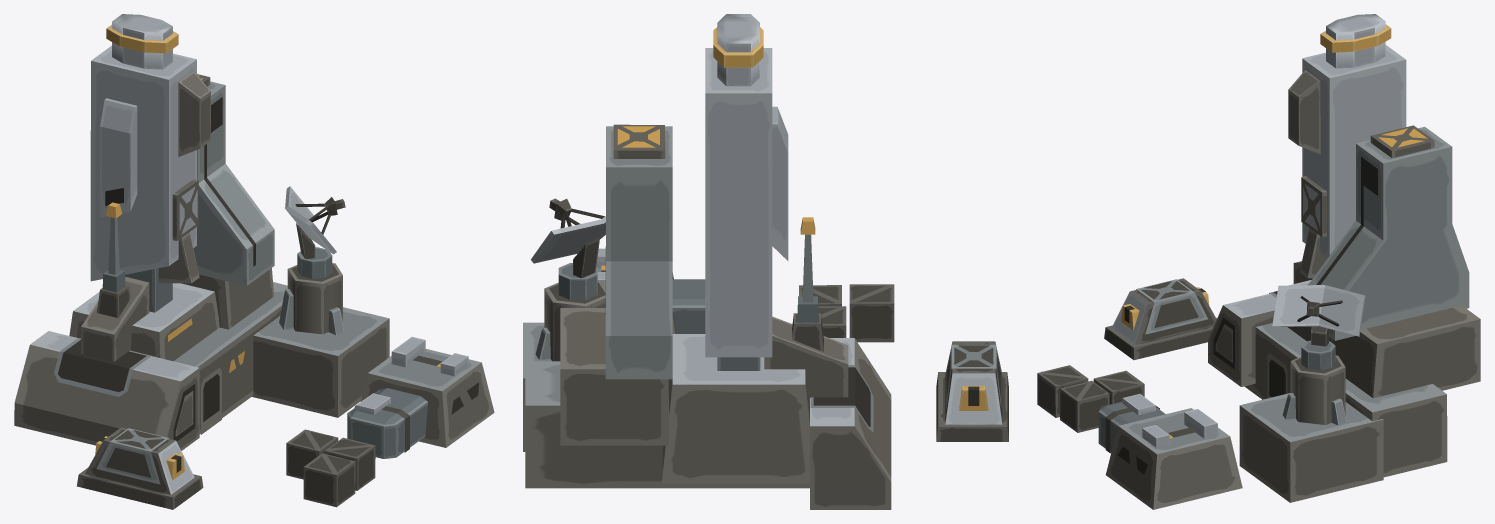
The model's file is watchtower3.FBX.
3 views of the same model, side by side, from view 1: azimuth 30°, elevation 25°; view 2: azimuth 150°, elevation 25°; view 3: azimuth 270°, elevation 25° (orthographic). The views are drawn at different scales.
Parts seen in each view (by area): view 1: watchtower3, c, a, b, d, e; view 2: watchtower3, a, c, d, e; view 3: watchtower3, a, b, e.
Part boxes in pixels (<box>): watchtower3: <box>14,14,494,509</box>; c: <box>100,98,137,217</box>; a: <box>285,186,345,278</box>; b: <box>178,71,210,156</box>; d: <box>97,202,130,317</box>; e: <box>106,24,178,53</box>; watchtower3: <box>523,14,1008,509</box>; a: <box>531,198,605,299</box>; c: <box>772,106,788,260</box>; d: <box>792,217,823,351</box>; e: <box>713,27,763,67</box>; watchtower3: <box>1037,14,1480,509</box>; a: <box>1272,285,1365,370</box>; b: <box>1288,70,1320,154</box>; e: <box>1320,24,1391,52</box>.
Bounding box in the file's own units: 136 × 135 × 127.
